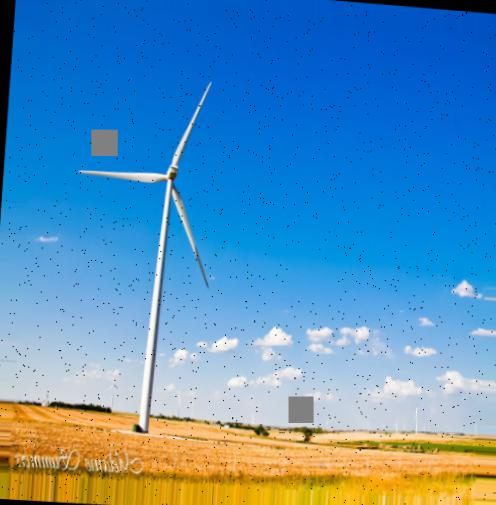wind turbine: (78, 87, 214, 422)
